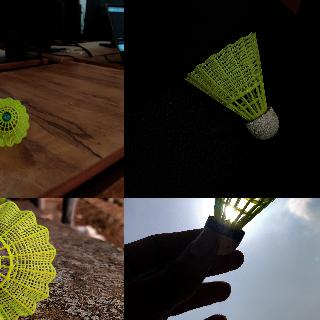shuttlecock: (184, 32, 278, 140), (0, 198, 58, 319), (202, 198, 307, 255), (0, 96, 30, 147)
